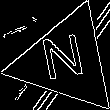N_S: (41, 32, 91, 90)
